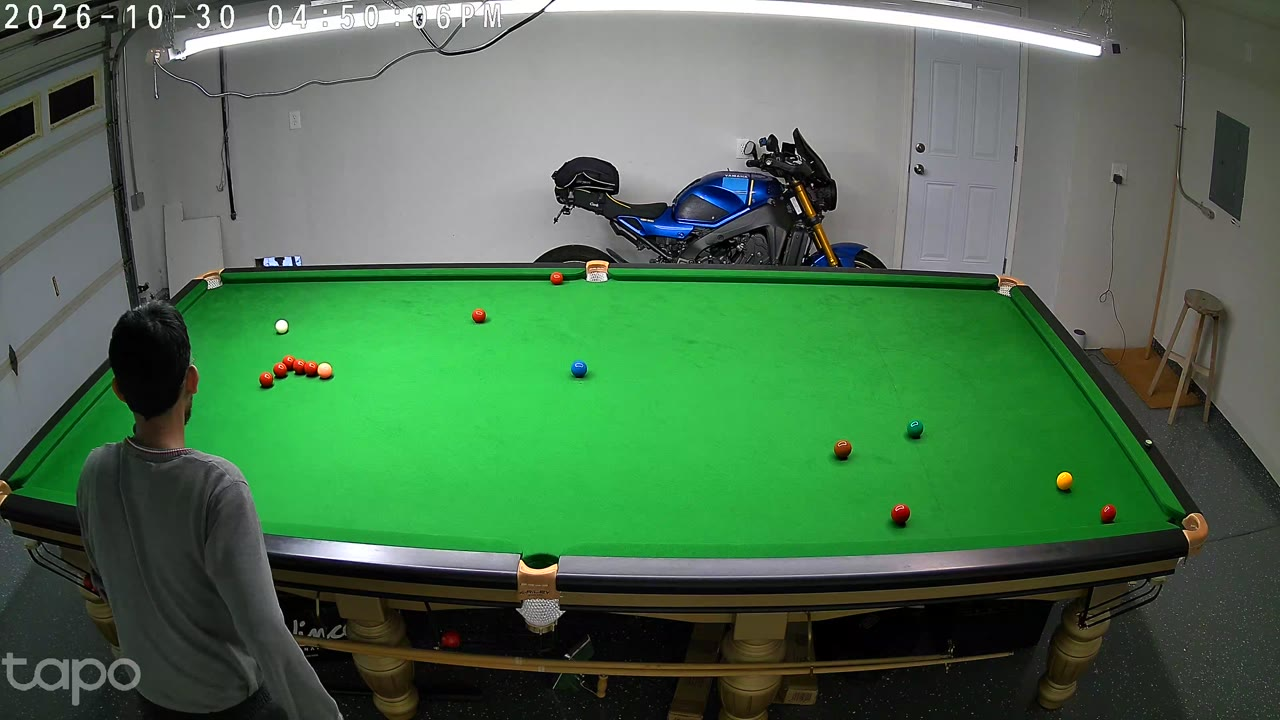blue: (571, 359, 587, 380)
brown: (834, 438, 852, 461)
green: (907, 417, 923, 440)
pink: (319, 361, 331, 381)
red: (890, 501, 910, 528), (1100, 502, 1117, 528), (274, 361, 286, 381), (472, 308, 485, 326), (260, 371, 272, 390), (278, 360, 289, 379), (306, 360, 317, 378), (551, 271, 562, 288), (295, 358, 305, 376), (284, 355, 295, 371)
white: (276, 318, 288, 336)
yellow: (1056, 470, 1073, 494)
